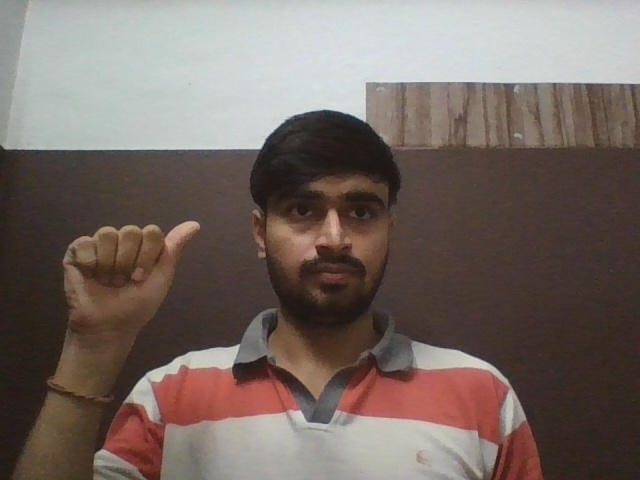A: (61, 220, 202, 331)
